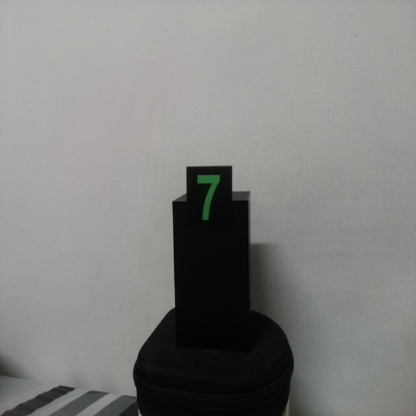id_7: (186, 168, 233, 235)
